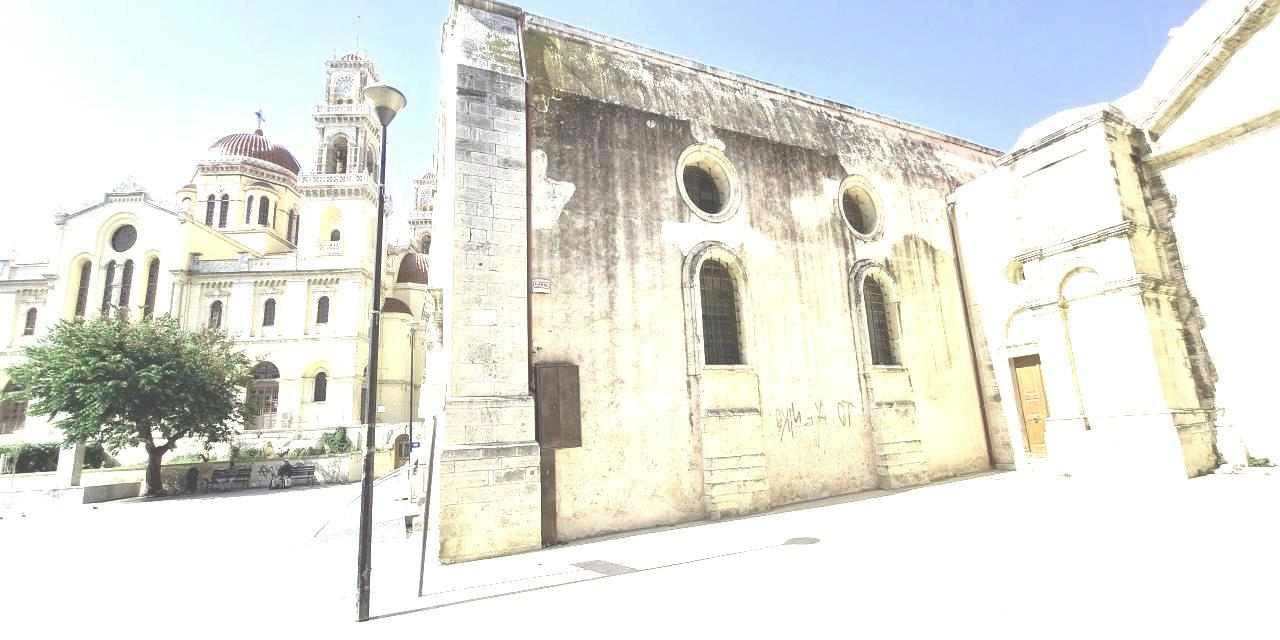Agia Aikaterini: (411, 5, 1280, 570)
